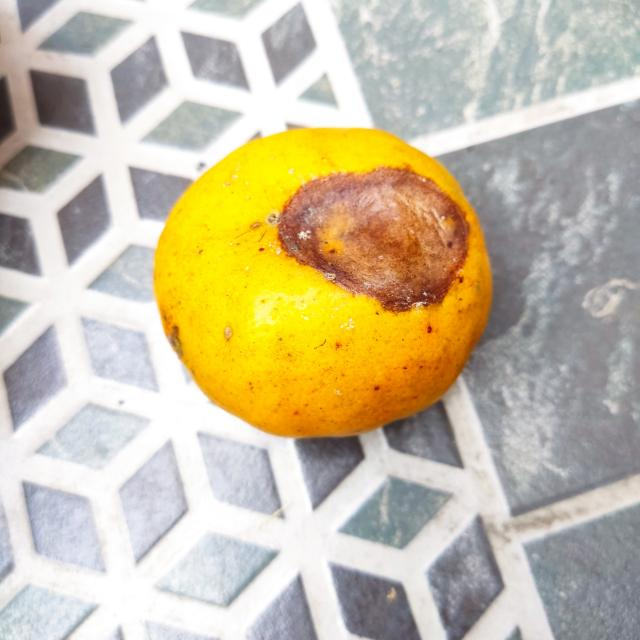orange: (152, 125, 492, 436)
